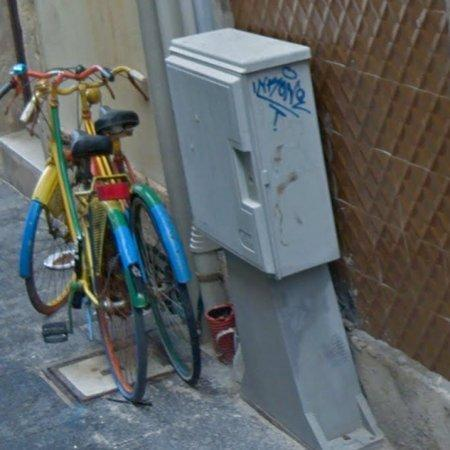bicycles: (57, 65, 201, 384), (19, 70, 148, 401)
